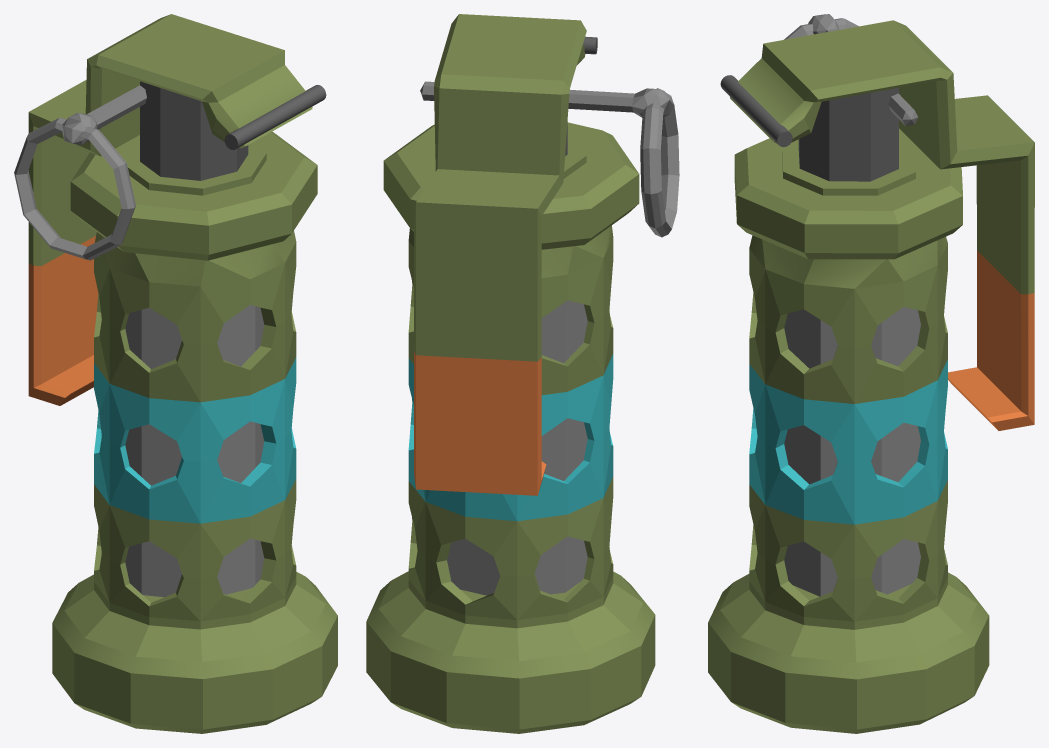
The model's file is stungrenade.fbx.
The picture shows the model from 3 angles, left to right: view 1: azimuth 30°, elevation 25°; view 2: azimuth 150°, elevation 25°; view 3: azimuth 270°, elevation 25°; orthographic projection.
Visible parts, largest first — view 1: polySurface28; view 2: polySurface28; view 3: polySurface28.
Part boxes in pixels (x1,y1,x2,y2): polySurface28: (14,14,337,733); polySurface28: (366,14,679,733); polySurface28: (708,14,1034,733).
Size of the model in its own units: 5.36 by 11.08 by 5.27.
